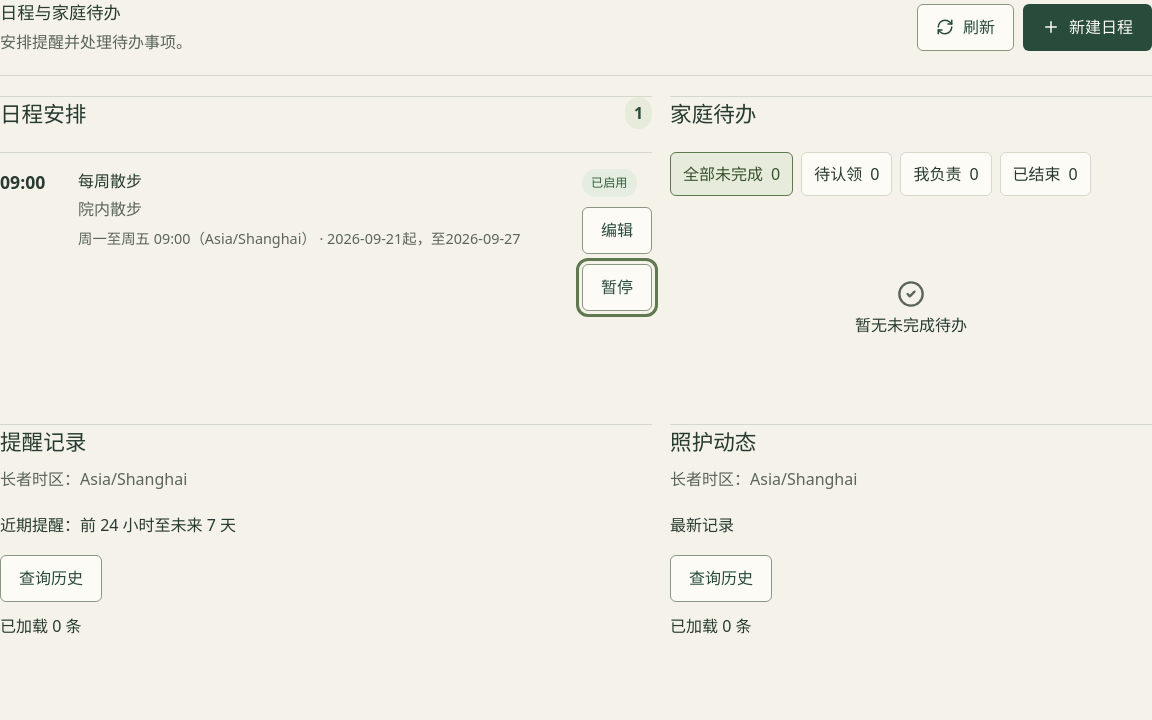
Test: independent routine and task loading › cancels by Escape and returns focus without sending a command
The image size is (1152, 720).
Click the button "暂停" at (617, 287), box 582,264 -> 652,311
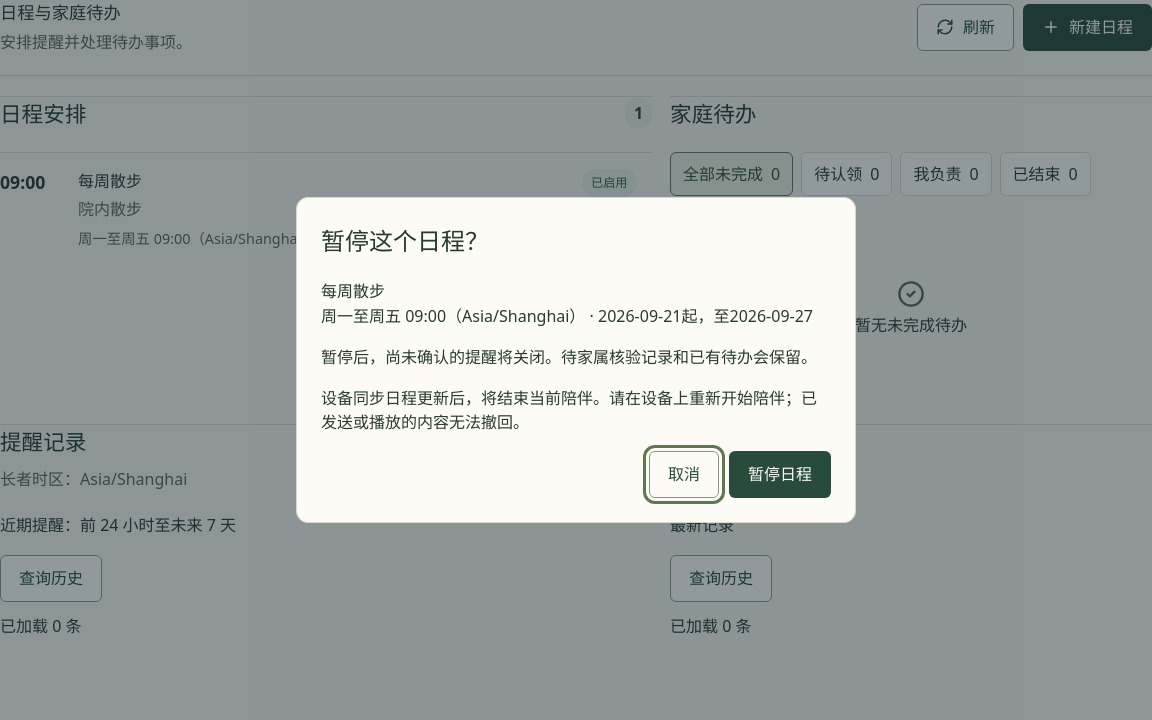
Press Escape in the button "取消", box 649,451 -> 719,498
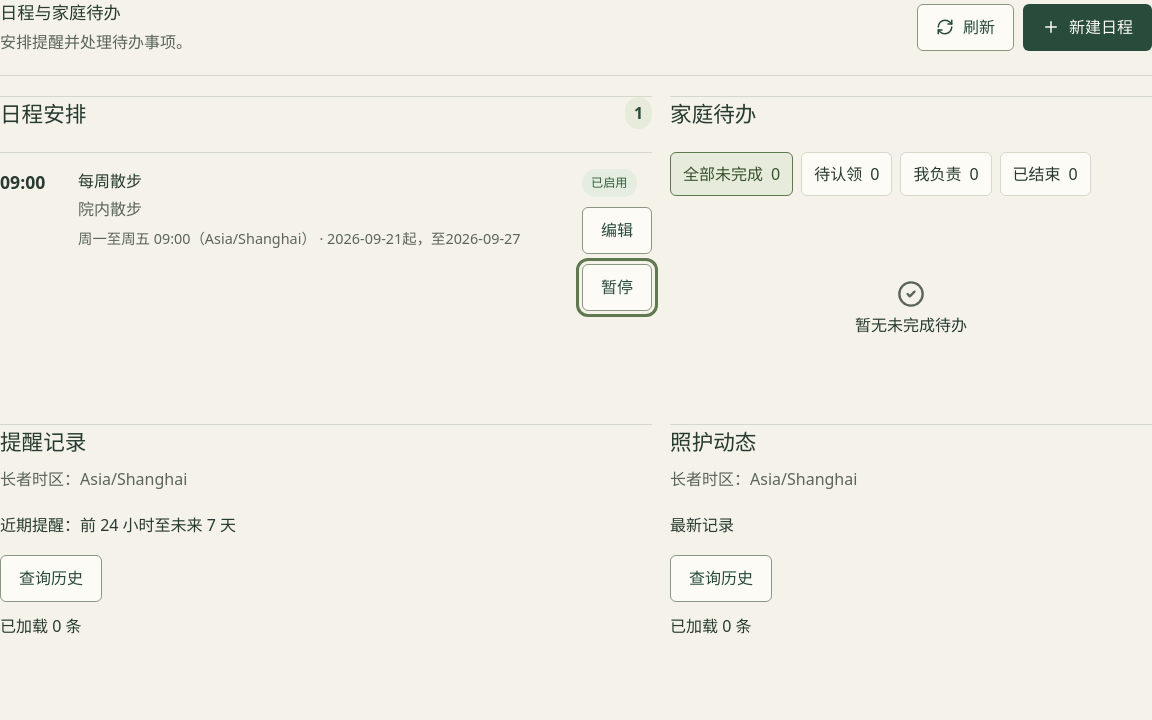
Now the dialog is gone
